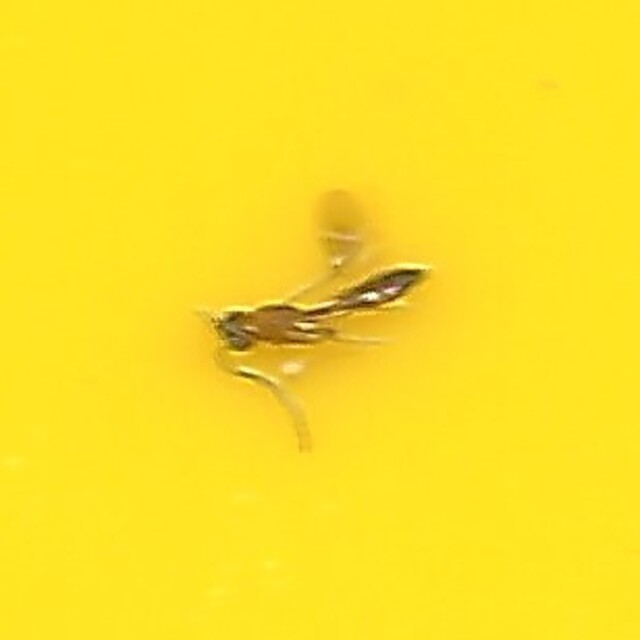Hymenoptera: (208, 191, 432, 449)
